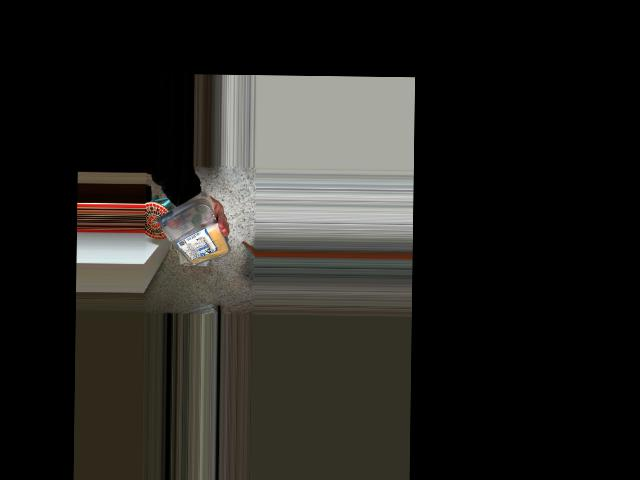cheese: (155, 196, 221, 271)
